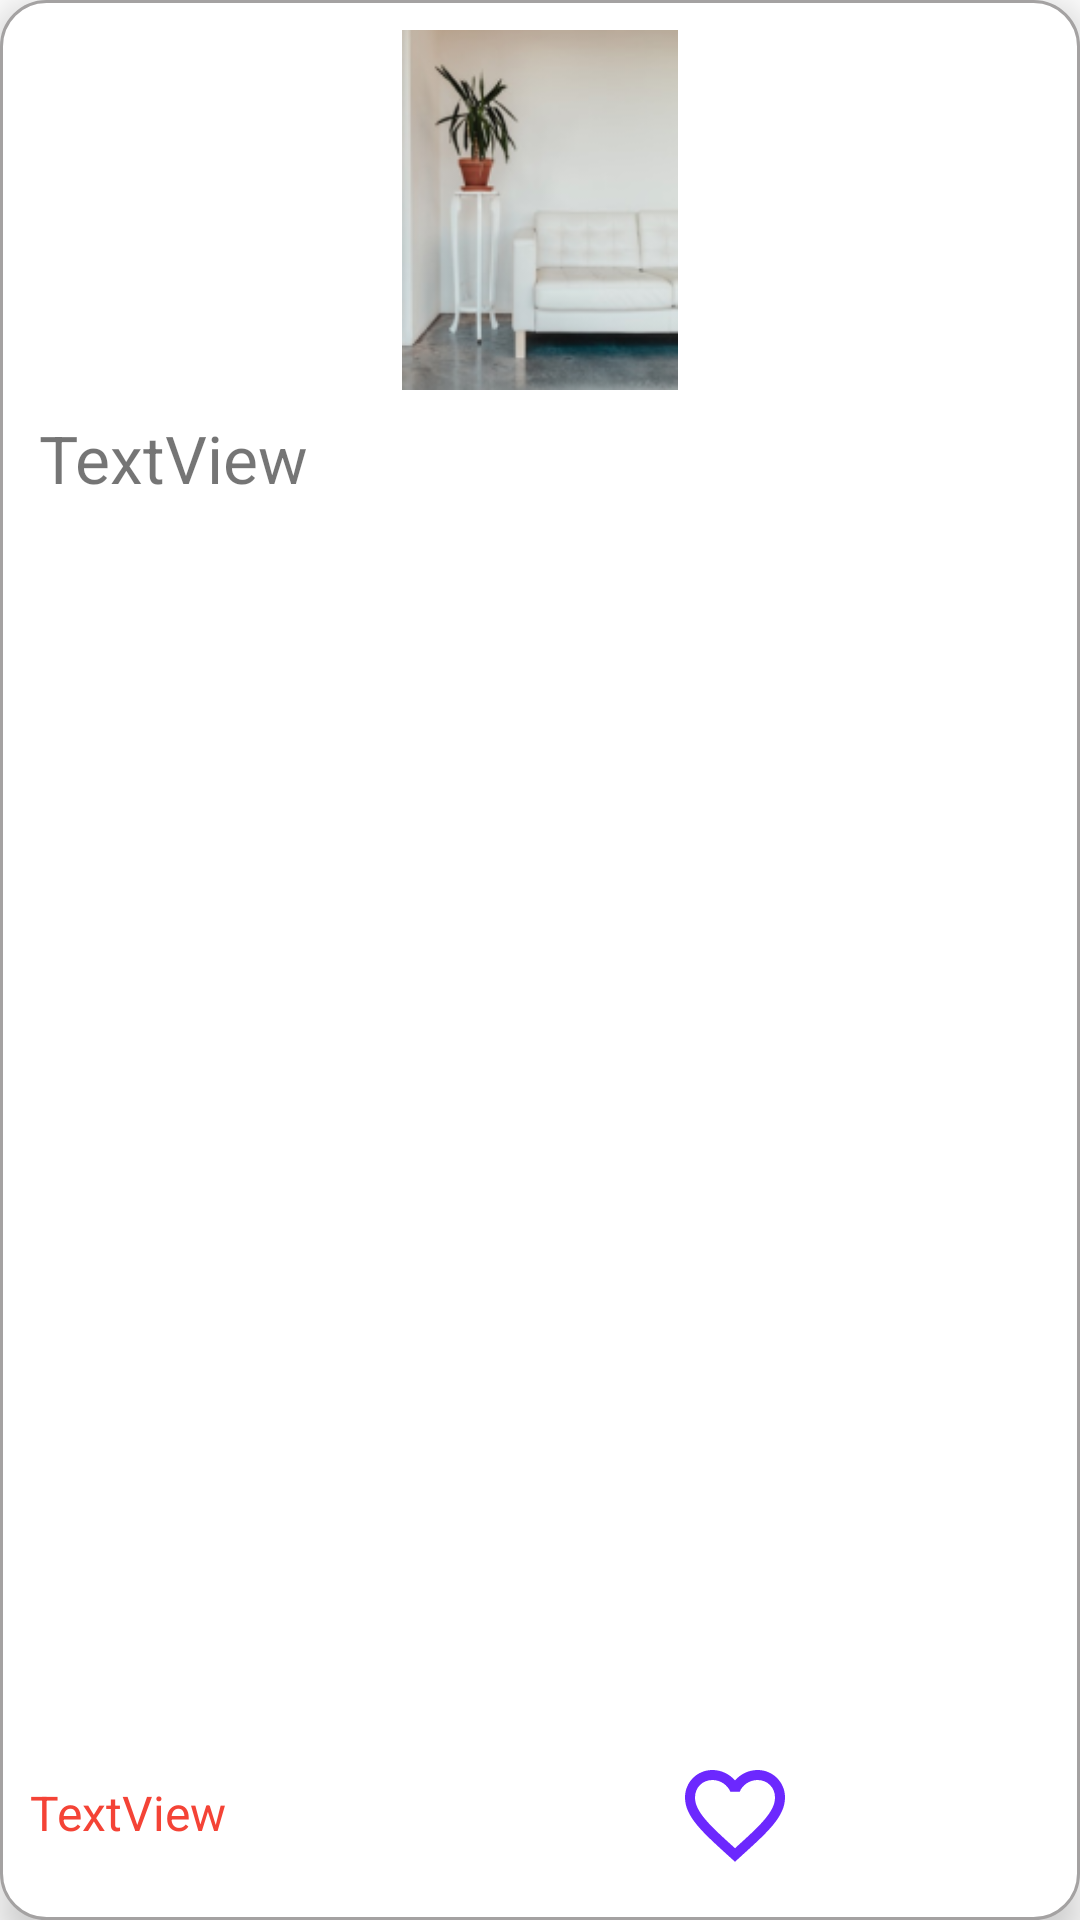

Icon click points for this 1080×1920 phone screenshot, format (x=x, y=y):
favorite border: (x=735, y=1816)
hinh: (x=540, y=210)
